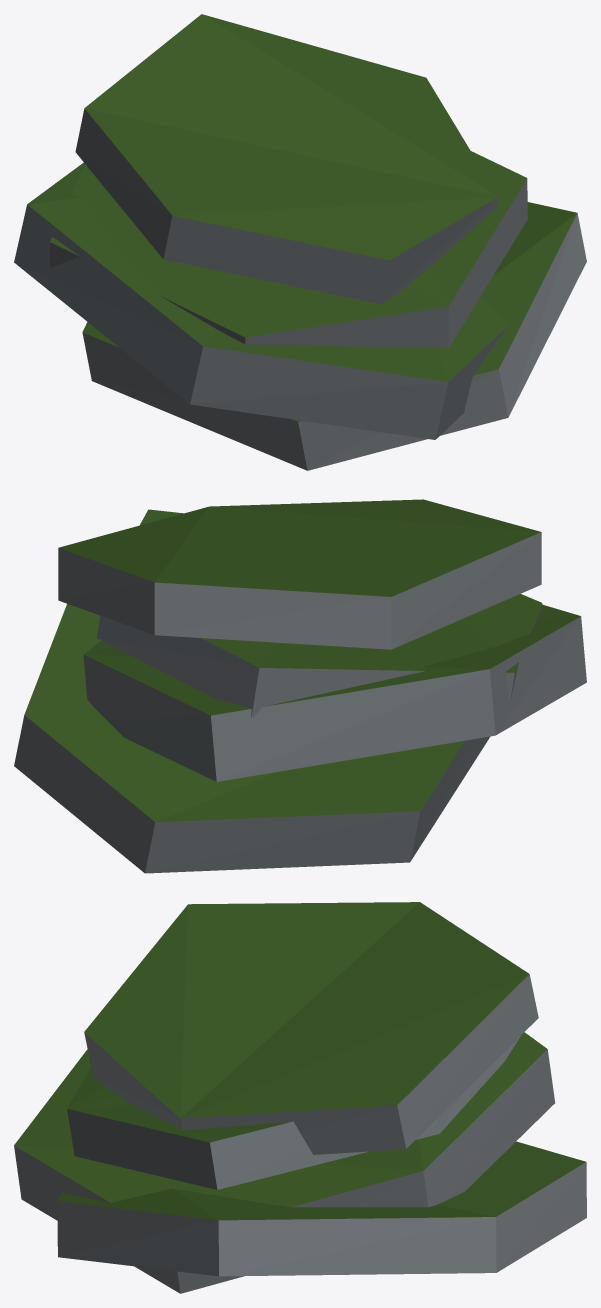
File: rock.slab__crusted__winter.glb
3 views of the same model, one above another, from view 1: azimuth 30°, elevation 25°; view 2: azimuth 150°, elevation 25°; view 3: azimuth 270°, elevation 25° (orthographic). The views are drawn at different scales.
Parts seen in each view (by area): view 1: rock.slab; view 2: rock.slab; view 3: rock.slab.
Part boxes in pixels (bbox=[...]): rock.slab: bbox=[14, 14, 586, 470]; rock.slab: bbox=[14, 499, 586, 873]; rock.slab: bbox=[14, 902, 586, 1293].
Bounding box in the file's own units: 1.98 × 1.07 × 2.02.
